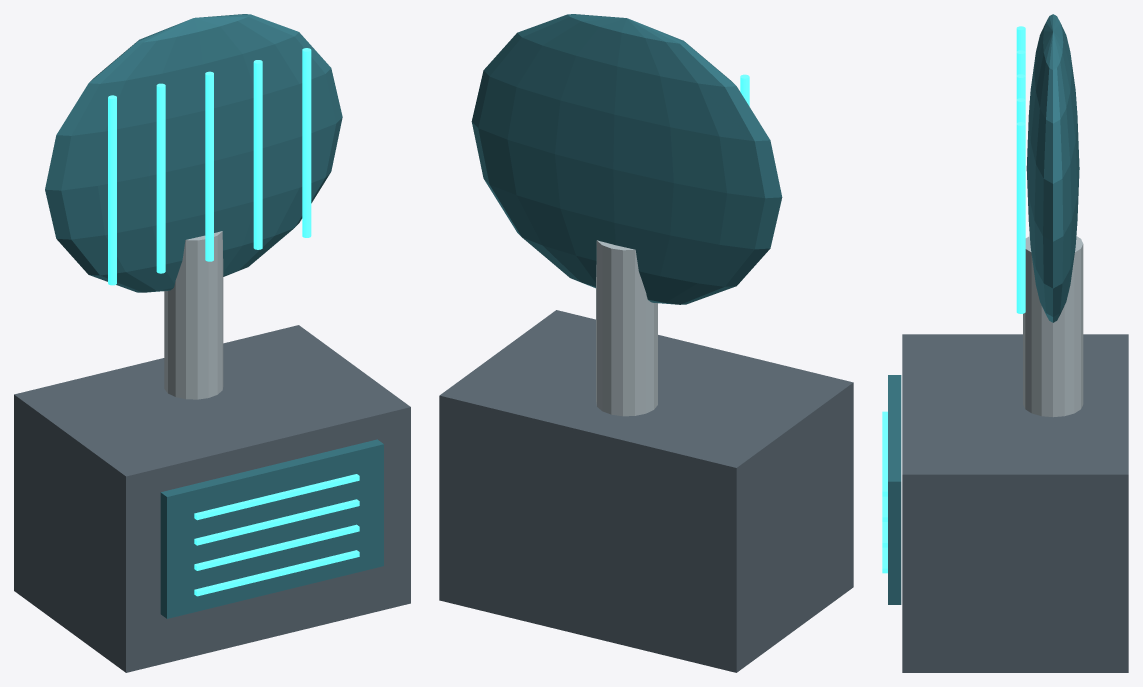
Rendered from radar-array.glb.
The picture shows the model from 3 angles, left to right: view 1: azimuth 30°, elevation 25°; view 2: azimuth 150°, elevation 25°; view 3: azimuth 270°, elevation 25°; orthographic projection. The views are drawn at different scales.
Visible parts, largest first — view 1: radar console, phased radar face, glowing status panel, radar pedestal, radar grid.001, radar grid.003, radar grid.004, radar grid, radar grid.002, telemetry line.002, telemetry line, telemetry line.003 (+1 smaller); view 2: radar console, phased radar face, radar pedestal; view 3: radar console, phased radar face, radar pedestal, glowing status panel, radar grid.004, telemetry line.003.
Boxes of the visible parts, <box> form: radar console: <box>14,325,410,672</box>; phased radar face: <box>45,14,342,292</box>; glowing status panel: <box>160,439,383,618</box>; radar pedestal: <box>164,231,223,399</box>; radar grid.001: <box>156,83,165,273</box>; radar grid.003: <box>253,60,262,249</box>; radar grid.004: <box>302,48,311,237</box>; radar grid: <box>108,95,116,285</box>; radar grid.002: <box>205,71,213,261</box>; telemetry line.002: <box>194,499,359,545</box>; telemetry line: <box>194,550,359,596</box>; telemetry line.003: <box>194,474,359,520</box>; radar console: <box>439,310,853,672</box>; phased radar face: <box>471,14,782,304</box>; radar pedestal: <box>596,240,657,416</box>; radar console: <box>902,334,1128,672</box>; phased radar face: <box>1026,14,1079,322</box>; radar pedestal: <box>1023,236,1083,417</box>; glowing status panel: <box>888,375,901,604</box>; radar grid.004: <box>1016,122,1025,313</box>; telemetry line.003: <box>882,411,887,496</box>.
Size of the model in its own units: 0.92 by 1.67 by 0.6525.
